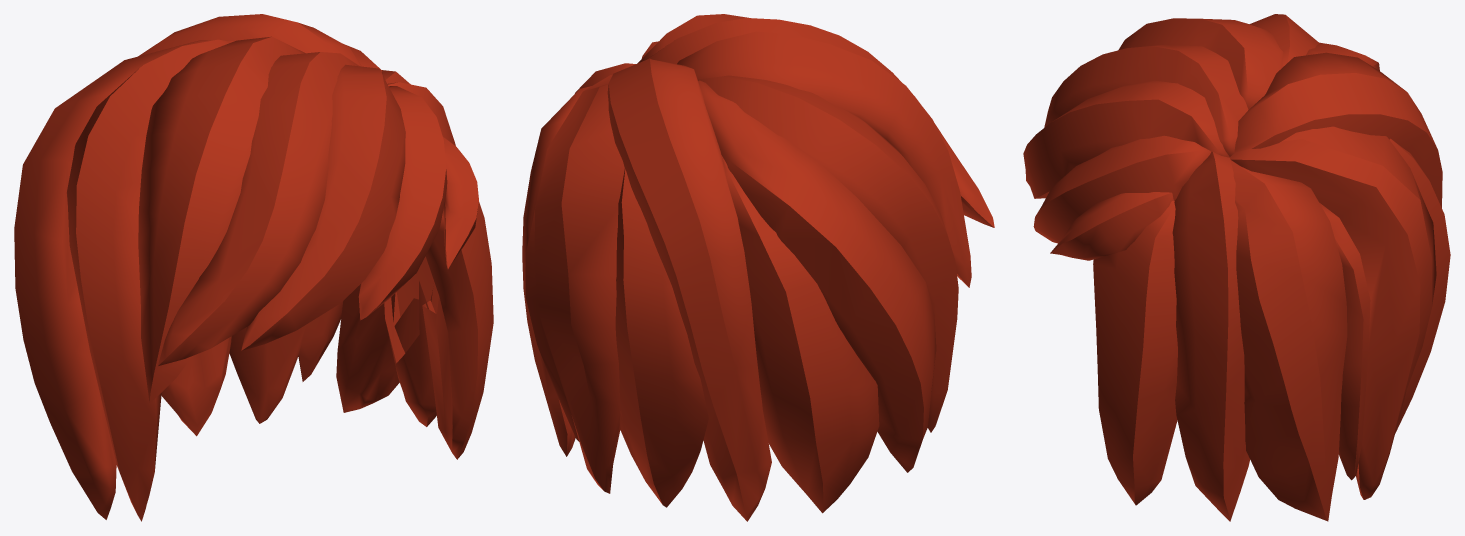
The model's file is ShortHair.fbx.
3 views of the same model, side by side, from view 1: azimuth 30°, elevation 25°; view 2: azimuth 150°, elevation 25°; view 3: azimuth 270°, elevation 25° (orthographic). The views are drawn at different scales.
Visible parts, largest first — view 1: short_hairstyle; view 2: short_hairstyle; view 3: short_hairstyle.
Part boxes in pixels (x1,y1,x2,y2): short_hairstyle: (14,14,493,521); short_hairstyle: (522,14,994,521); short_hairstyle: (1023,14,1450,521).
Size of the model in its own units: 0.6309 by 0.6601 by 0.5845.
